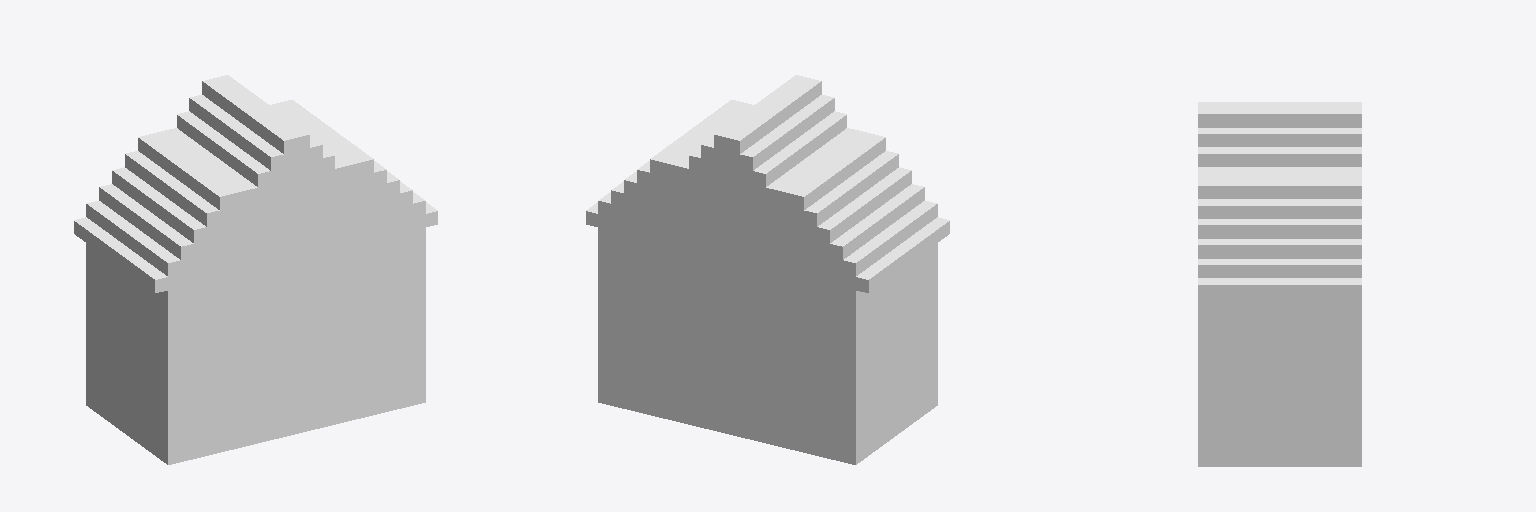
Rendered from red.obj.
3 renders of one model, left to right at view 1: azimuth 30°, elevation 25°; view 2: azimuth 150°, elevation 25°; view 3: azimuth 270°, elevation 25°, orthographic.
Size of the model in its own units: 22 by 22 by 11.